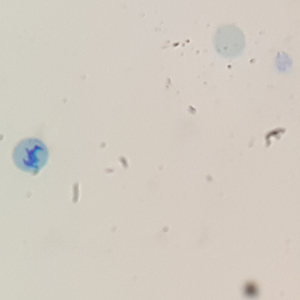aggregate reticulocyte: (11, 137, 51, 175)
erythrocyte: (212, 24, 248, 59)
